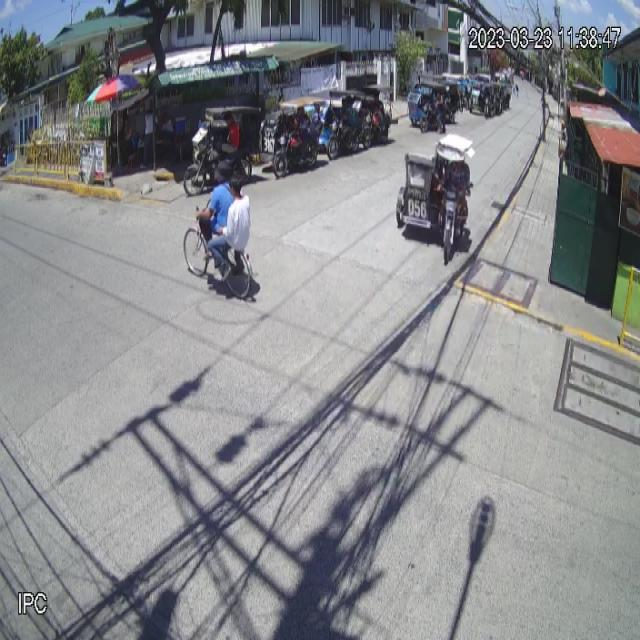Tricycle: (396, 131, 475, 267)
